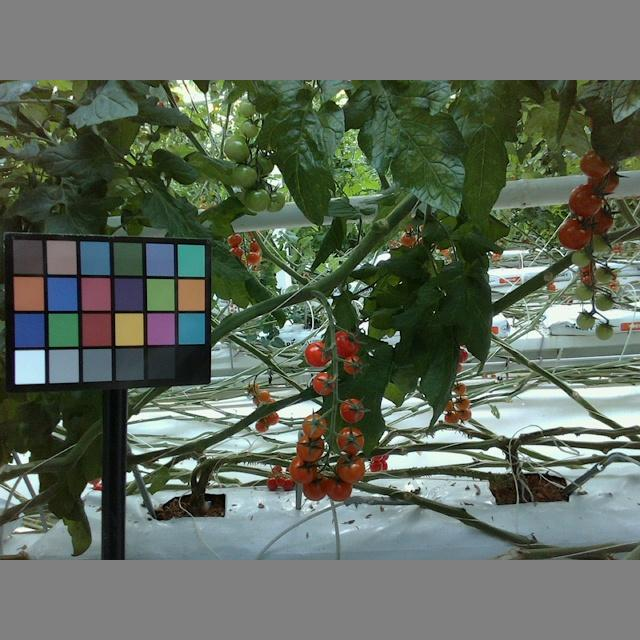green: (244, 190, 271, 211), (234, 163, 256, 186), (227, 138, 249, 161), (591, 292, 615, 311), (271, 188, 288, 212), (242, 118, 262, 137), (592, 236, 610, 256), (569, 249, 589, 267), (595, 264, 612, 281), (577, 284, 595, 299), (577, 312, 593, 328), (596, 322, 612, 337), (239, 102, 252, 116)
pink: (296, 433, 324, 459), (300, 412, 329, 437), (341, 457, 365, 485), (338, 429, 365, 452), (326, 476, 350, 501), (288, 462, 318, 481), (307, 478, 326, 500), (343, 354, 362, 370)
red: (571, 185, 602, 217), (580, 148, 611, 178), (559, 217, 586, 245), (331, 330, 360, 356), (302, 340, 329, 365), (313, 371, 336, 396), (591, 210, 614, 233), (341, 399, 366, 420)
